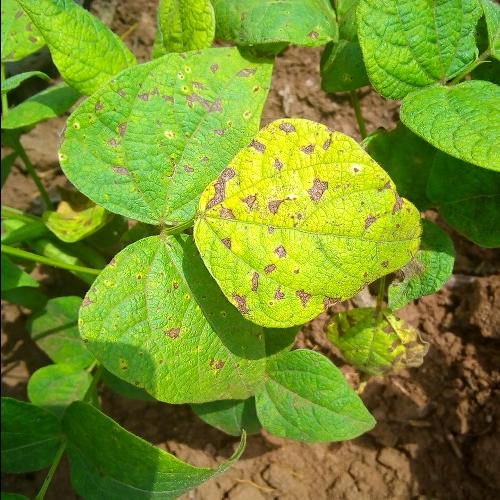hawar: (250, 98, 350, 234), (202, 225, 312, 326), (194, 147, 274, 254), (144, 320, 187, 355), (194, 346, 247, 374)
